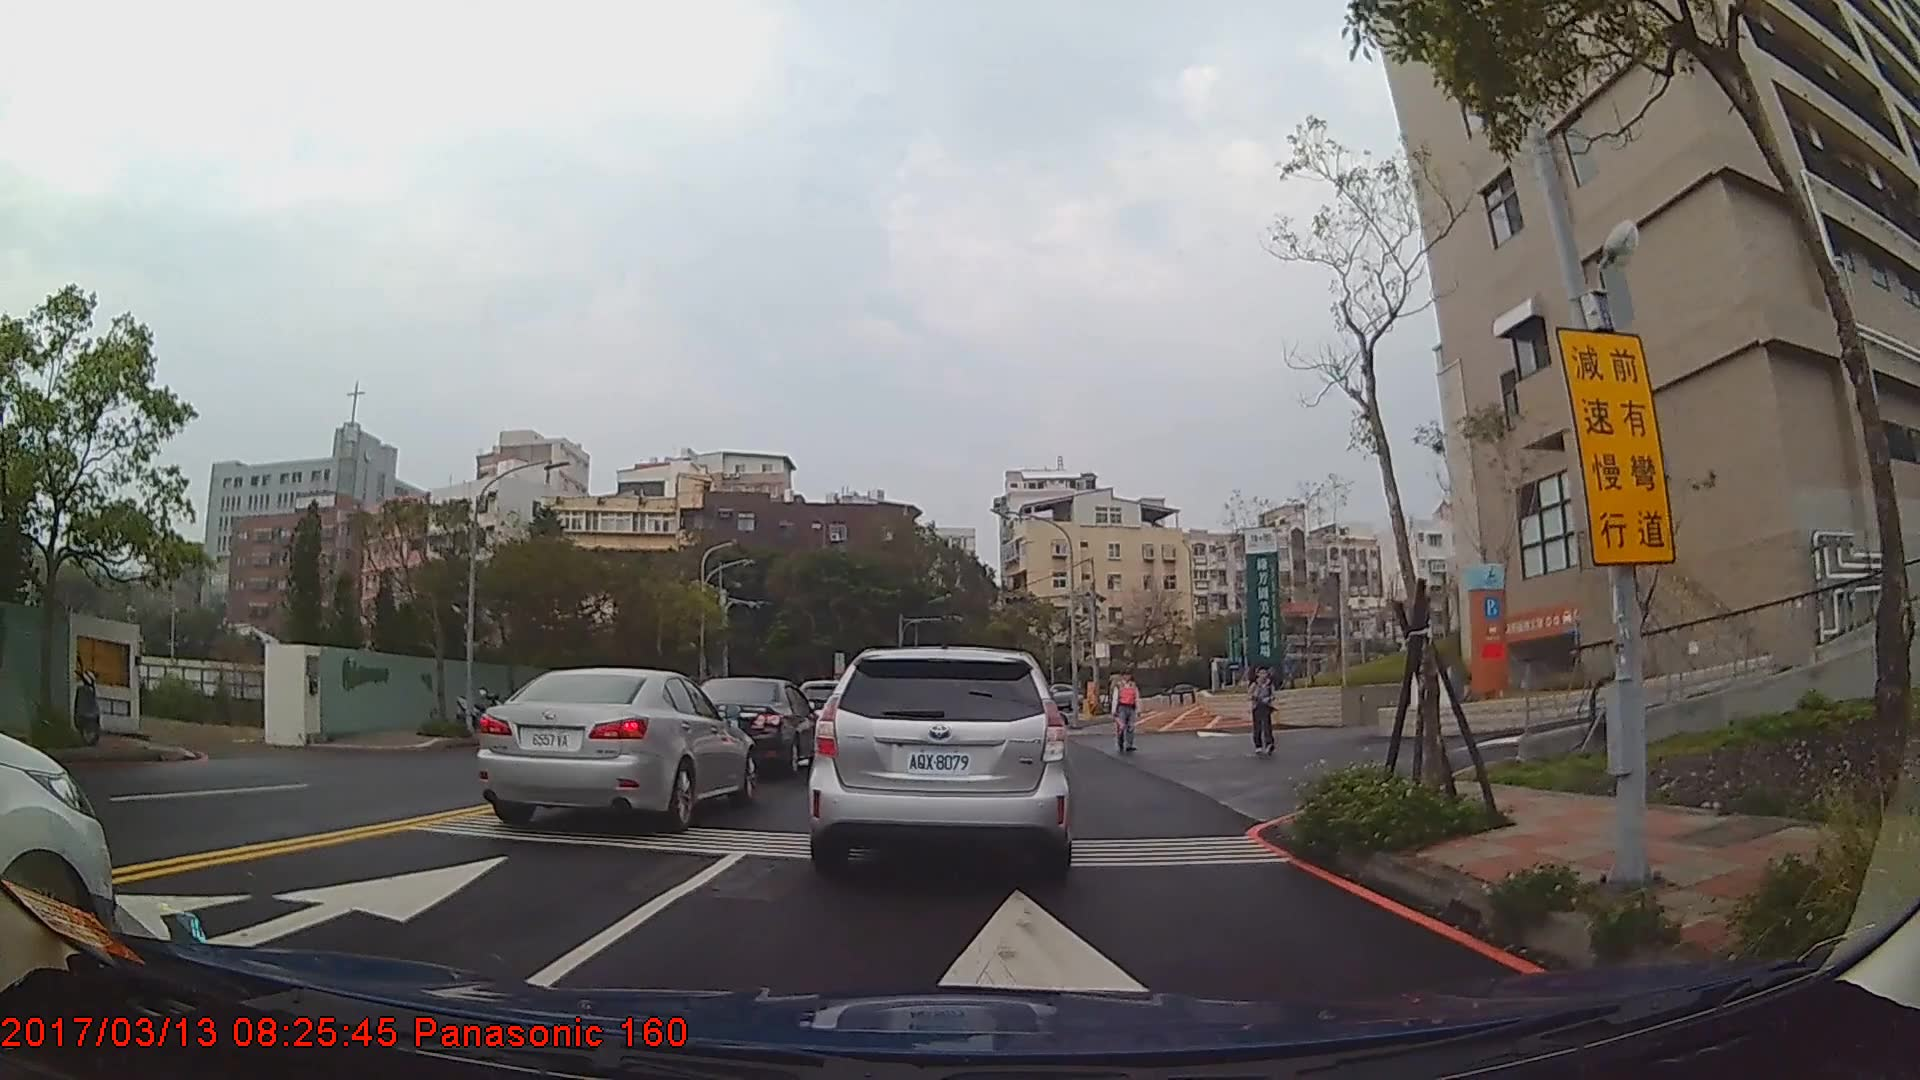pedestrian: (1111, 670, 1142, 757), (1249, 668, 1276, 759)
vehicle: (807, 646, 1074, 879), (475, 666, 754, 831), (685, 676, 820, 779)
